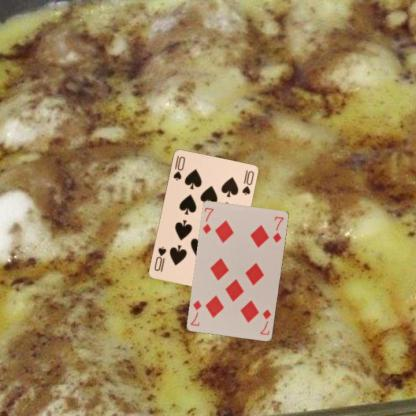10s: (170, 152, 186, 182)
7d: (200, 205, 215, 235), (258, 307, 272, 336)
